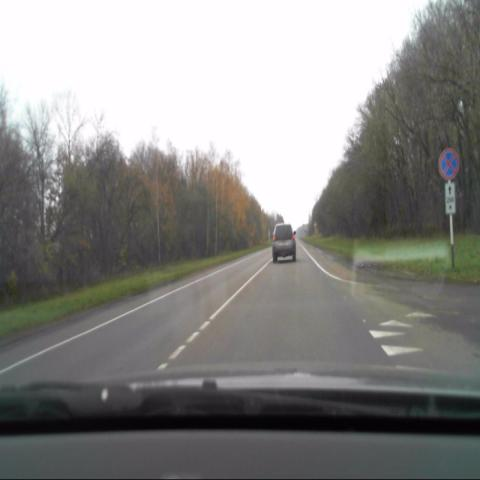8_2_2: (445, 181, 456, 216)
